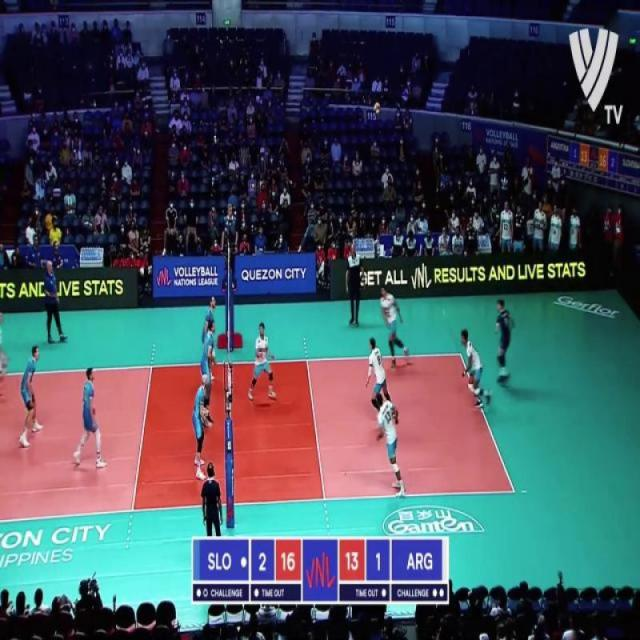volleyball: (374, 101, 381, 115)
